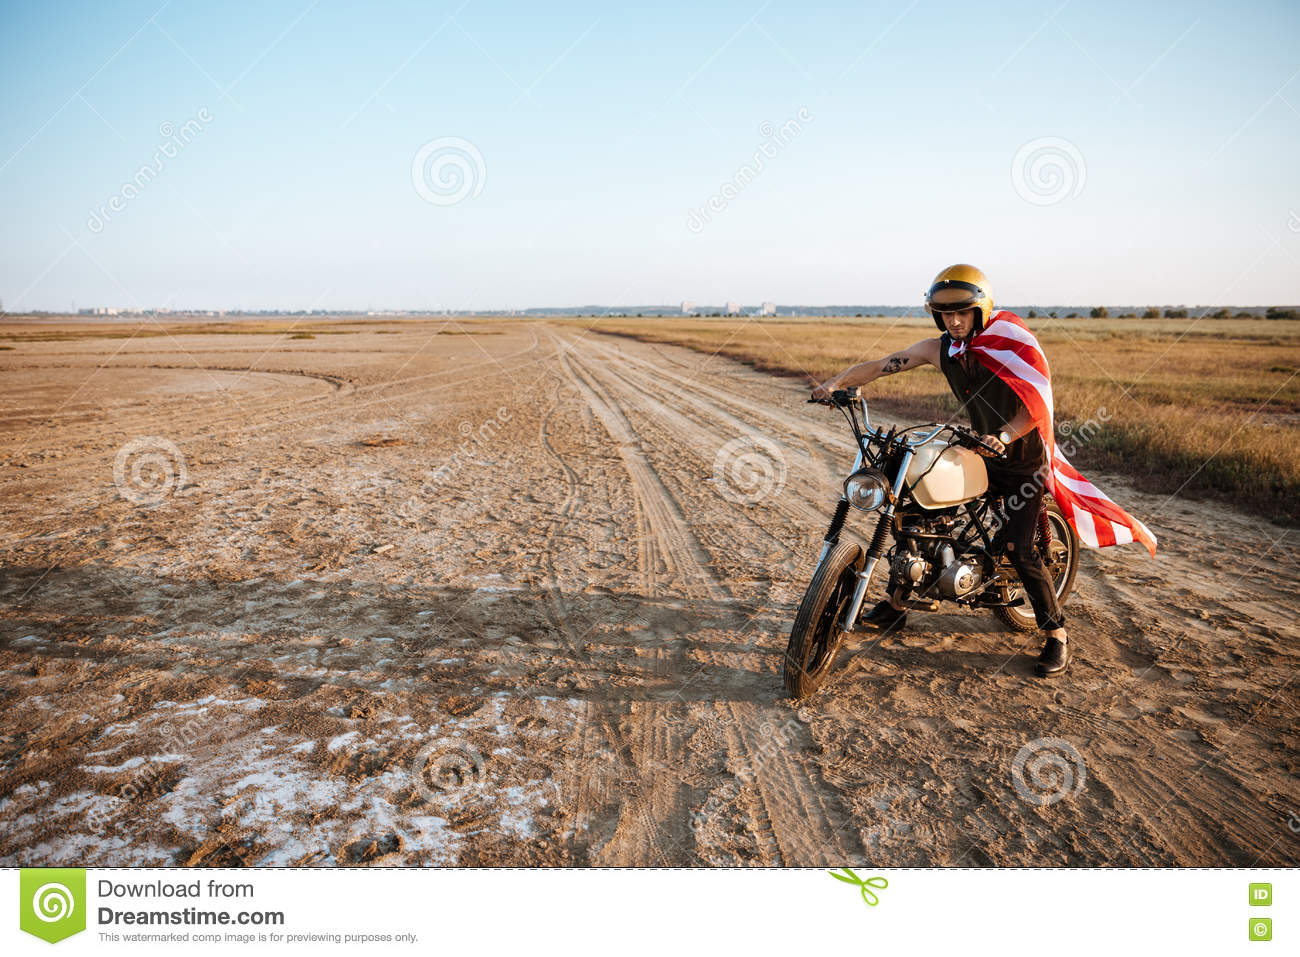helmet: (918, 252, 1001, 336)
